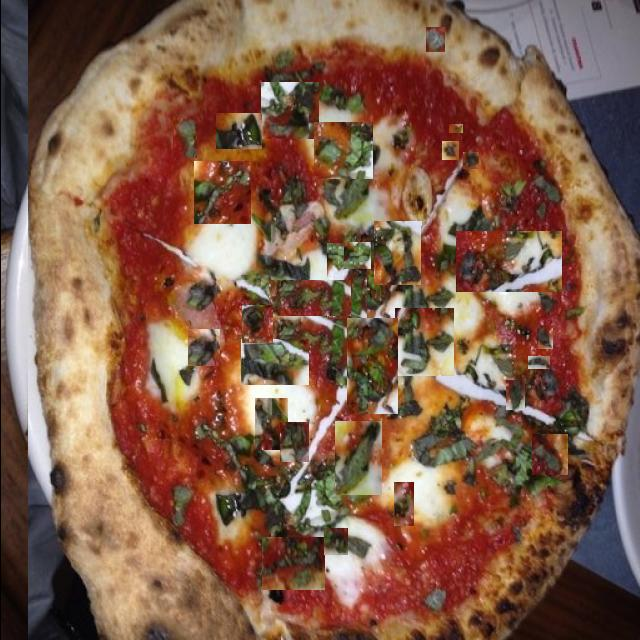basil: (490, 139, 564, 229), (455, 232, 561, 294), (344, 318, 396, 414), (229, 143, 293, 207), (394, 308, 453, 376), (193, 162, 250, 226), (412, 173, 480, 226), (334, 421, 381, 495), (261, 538, 324, 592), (203, 412, 254, 478), (313, 122, 372, 179), (448, 368, 500, 432), (260, 82, 318, 139), (240, 339, 308, 385), (326, 243, 366, 319), (373, 221, 420, 285), (268, 280, 350, 316), (555, 198, 603, 250), (254, 398, 287, 450), (215, 113, 261, 149), (256, 36, 288, 83), (531, 434, 567, 475), (187, 330, 219, 368), (241, 305, 272, 343), (279, 422, 308, 462), (172, 116, 196, 158), (393, 482, 413, 526), (293, 135, 316, 173), (500, 426, 523, 462), (304, 396, 334, 423), (343, 242, 370, 269), (323, 528, 347, 555), (505, 380, 524, 410), (425, 28, 444, 54), (536, 326, 552, 349), (441, 142, 458, 162), (564, 321, 584, 336), (527, 356, 549, 369), (462, 152, 478, 169), (346, 533, 366, 546), (162, 352, 178, 361), (448, 124, 462, 133)
pizza: (27, 0, 640, 640)
